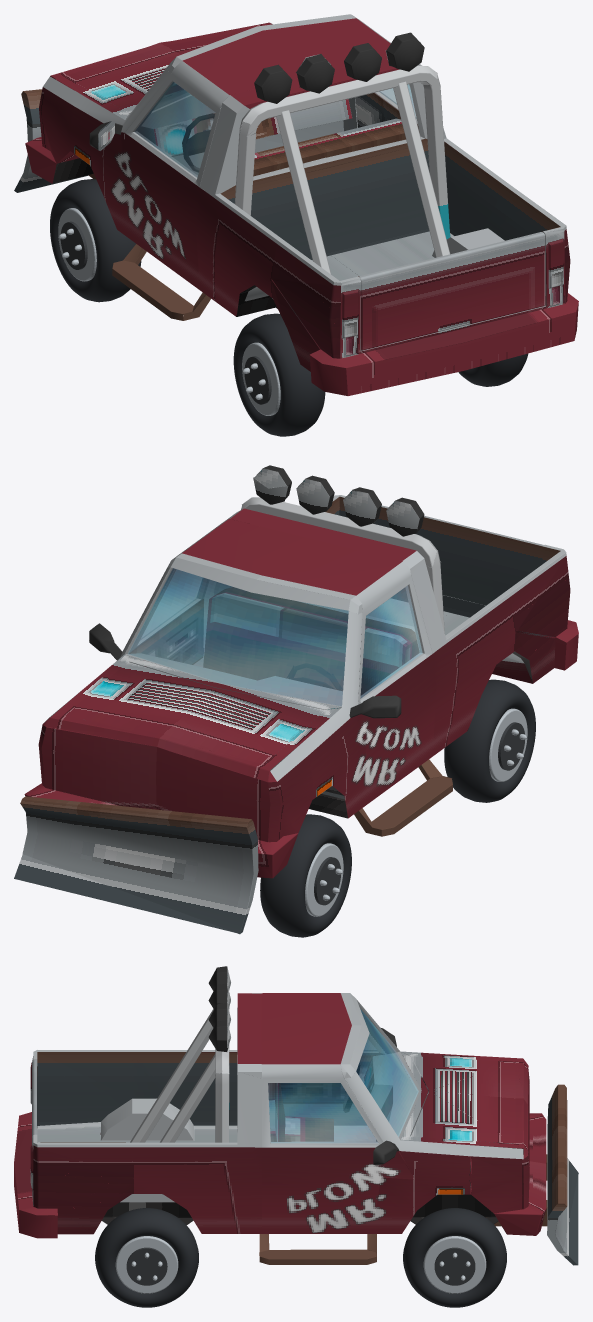
The model's file is car-mrplo_v.glb.
3 views of the same model, one above another, from view 1: azimuth 30°, elevation 25°; view 2: azimuth 150°, elevation 25°; view 3: azimuth 270°, elevation 25° (orthographic). The views are drawn at different scales.
Visible parts, largest first — view 1: mrplo_vShape.007, mrplo_vShape.003, mrplo_vShape.009, tailgateShape.002, mrplo_vShape.004, DoorDRotShape.095, mrplo_vShape.005, Rounded tire.139, Rounded tire.138, DoorDRotShape.096, HoodRotShape.023, DoorDRotShape.094 (+9 smaller); view 2: mrplo_vShape.007, mrplo_vShape.006, mrplo_vShape.008, mrplo_vShape.009, mrplo_vShape.004, mrplo_vShape.003, HoodRotShape.023, tailgateShape.003, mrplo_vShape.005, Rounded tire.139, Rounded tire.138, DoorDRotShape.095 (+11 smaller); view 3: mrplo_vShape.005, mrplo_vShape.007, mrplo_vShape.003, mrplo_vShape.009, DoorPRotShape.104, HoodRotShape.023, mrplo_vShape.006, DoorPRotShape.105, Rounded tire.137, Rounded tire.136, mrplo_vShape.008, DoorPRotShape.103 (+7 smaller).
Boxes of the visible parts, left/top/right/bottom form: mrplo_vShape.007: left=14, top=89, right=560, bottom=358; mrplo_vShape.003: left=43, top=14, right=578, bottom=395; mrplo_vShape.009: left=182, top=18, right=450, bottom=274; tailgateShape.002: left=359, top=232, right=545, bottom=350; mrplo_vShape.004: left=39, top=87, right=276, bottom=316; DoorDRotShape.095: left=124, top=133, right=199, bottom=272; mrplo_vShape.005: left=271, top=141, right=570, bottom=371; Rounded tire.139: left=233, top=313, right=325, bottom=436; Rounded tire.138: left=50, top=179, right=141, bottom=302; DoorDRotShape.096: left=135, top=82, right=215, bottom=177; HoodRotShape.023: left=65, top=31, right=242, bottom=113; DoorDRotShape.094: left=124, top=61, right=229, bottom=186; mrplo_vShape.007: left=14, top=496, right=560, bottom=934; mrplo_vShape.006: left=24, top=654, right=341, bottom=878; mrplo_vShape.008: left=128, top=568, right=348, bottom=706; mrplo_vShape.009: left=182, top=465, right=444, bottom=633; mrplo_vShape.004: left=277, top=597, right=516, bottom=841; mrplo_vShape.003: left=44, top=495, right=578, bottom=781; HoodRotShape.023: left=64, top=662, right=325, bottom=764; tailgateShape.003: left=373, top=507, right=542, bottom=605; mrplo_vShape.005: left=38, top=556, right=570, bottom=842; Rounded tire.139: left=444, top=679, right=535, bottom=802; Rounded tire.138: left=260, top=814, right=351, bottom=937; DoorDRotShape.095: left=359, top=654, right=436, bottom=788; mrplo_vShape.005: left=33, top=1133, right=529, bottom=1234; mrplo_vShape.007: left=37, top=1032, right=578, bottom=1265; mrplo_vShape.003: left=14, top=993, right=523, bottom=1238; mrplo_vShape.009: left=130, top=966, right=351, bottom=1142; DoorPRotShape.104: left=262, top=1147, right=383, bottom=1219; HoodRotShape.023: left=411, top=1056, right=515, bottom=1143; mrplo_vShape.006: left=400, top=1051, right=546, bottom=1235; DoorPRotShape.105: left=268, top=1083, right=377, bottom=1143; Rounded tire.137: left=403, top=1208, right=506, bottom=1307; Rounded tire.136: left=95, top=1208, right=198, bottom=1307; mrplo_vShape.008: left=356, top=1009, right=418, bottom=1136; DoorPRotShape.103: left=262, top=1064, right=383, bottom=1147.
Size of the model in its own units: 2.61 by 2.6 by 4.95.
13 materials, 10 textured.
